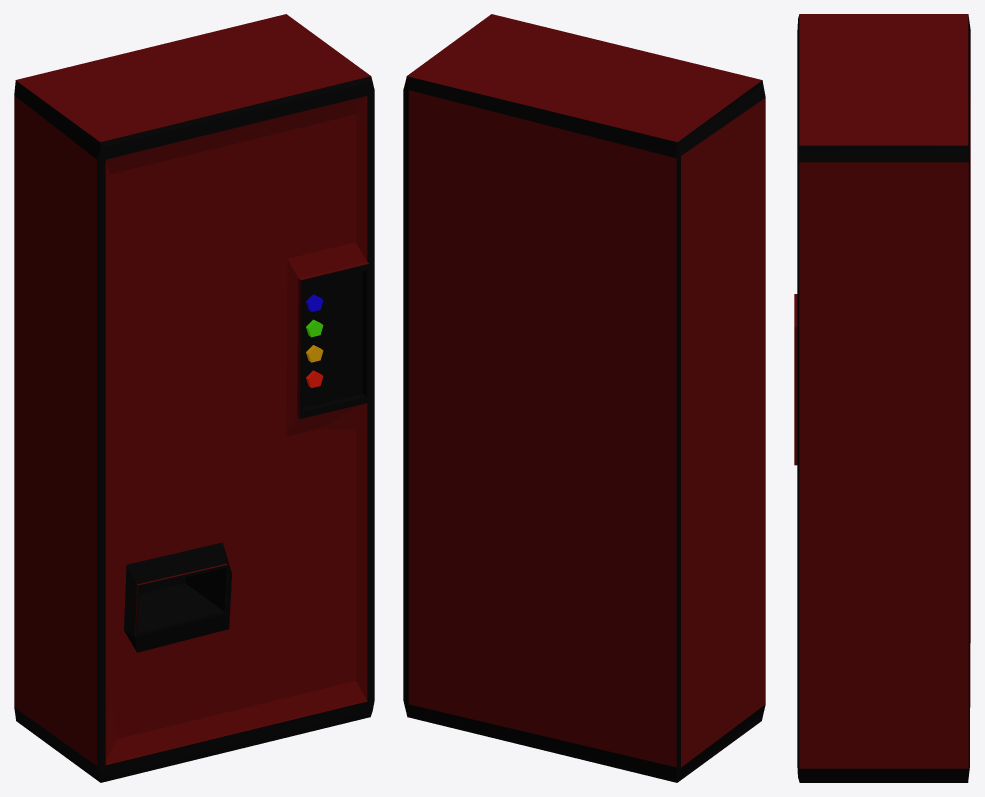
The model's file is Vending machine.fbx.
3 renders of one model, left to right at view 1: azimuth 30°, elevation 25°; view 2: azimuth 150°, elevation 25°; view 3: azimuth 270°, elevation 25°, orthographic.
Visible parts, largest first — view 1: Cube; view 2: Cube; view 3: Cube.
Boxes of the visible parts, box(x1,y1,x2,y2) form: Cube: box(14, 14, 374, 782); Cube: box(403, 14, 765, 782); Cube: box(794, 14, 970, 782).
Bounding box in the file's own units: 131 × 290 × 72.52.
